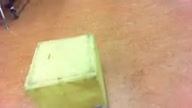cube: (25, 33, 109, 108)
